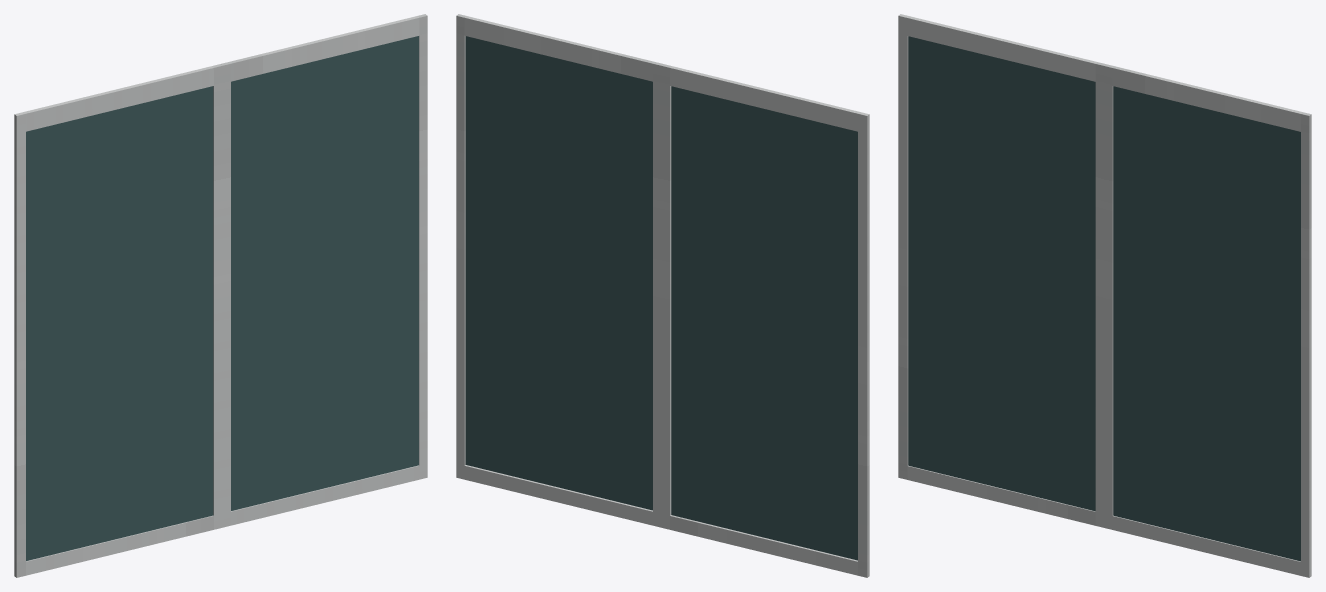
The model's file is objects_un_pl01_door.gltf.
The picture shows the model from 3 angles, left to right: view 1: azimuth 30°, elevation 25°; view 2: azimuth 150°, elevation 25°; view 3: azimuth 330°, elevation 25°; orthographic projection.
Visible parts, largest first — view 1: um_objects_un_pl01_door_model_objects_un_pl01_door_modelShap (×2); view 2: um_objects_un_pl01_door_model_objects_un_pl01_door_modelShap (×2); view 3: um_objects_un_pl01_door_model_objects_un_pl01_door_modelShap (×2).
Part boxes in pixels (x1,y1,x2,y2): um_objects_un_pl01_door_model_objects_un_pl01_door_modelShap (×2): [14, 14, 427, 577]; um_objects_un_pl01_door_model_objects_un_pl01_door_modelShap (×2): [456, 14, 869, 577]; um_objects_un_pl01_door_model_objects_un_pl01_door_modelShap (×2): [898, 14, 1311, 577].
Size of the model in its own units: 3.72 by 4 by 0.0375.
Materials: 2 (2 with a texture image).
